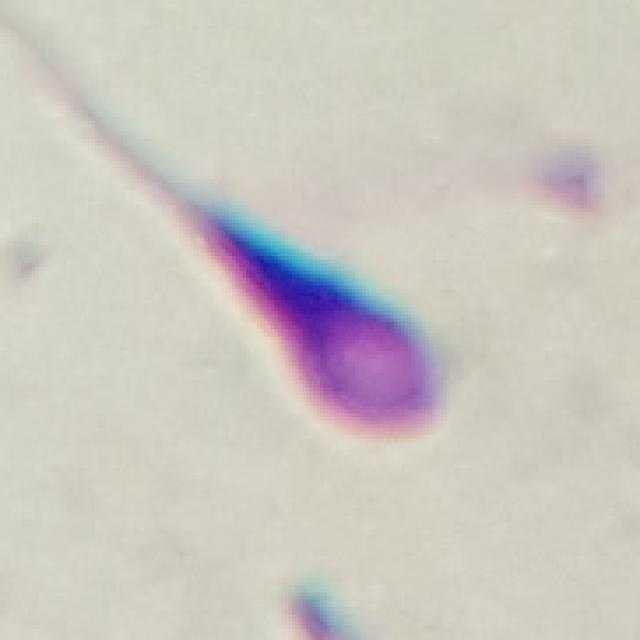abnormal sperm: (54, 87, 491, 463)
